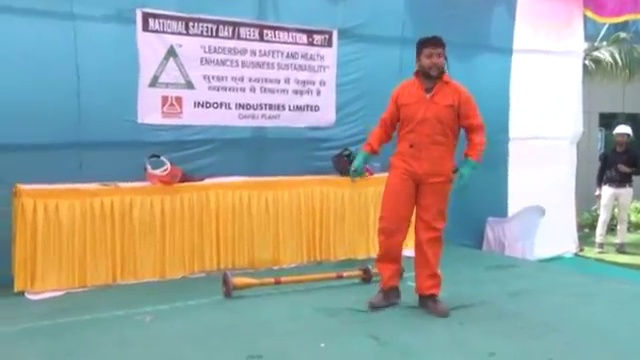helmet: (611, 123, 634, 138)
helmet_off: (415, 36, 450, 80)
helmet_on: (611, 123, 634, 151)
person: (349, 34, 486, 317), (595, 123, 640, 254)
